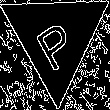P_NW: (30, 7, 82, 69)
